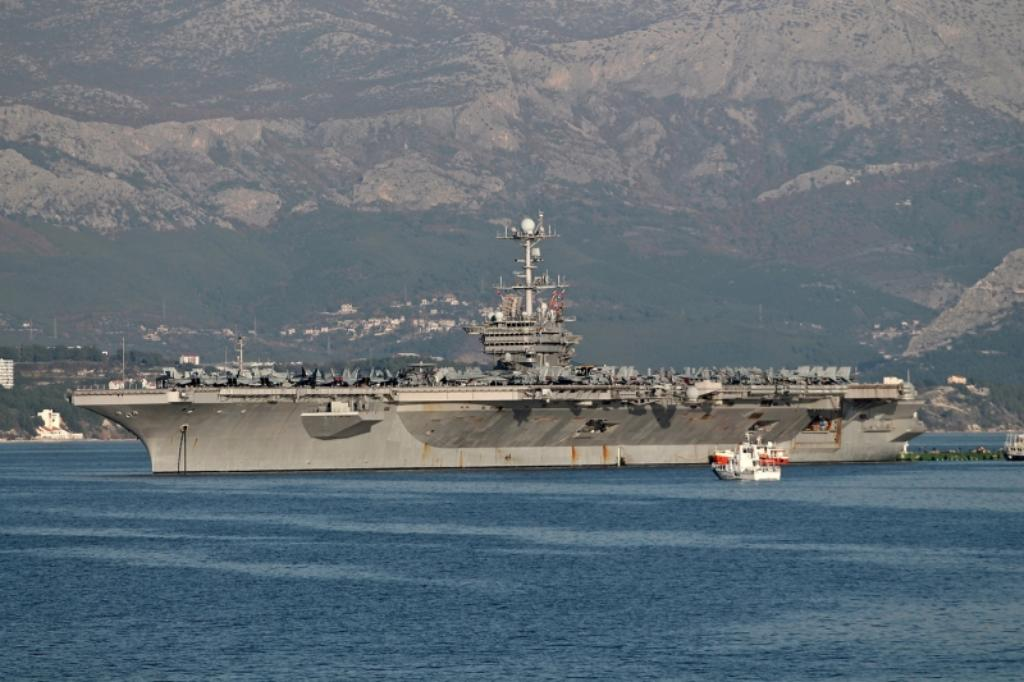Warship: (67, 206, 933, 478)
